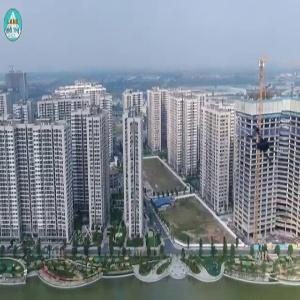drone: (231, 121, 286, 176)
